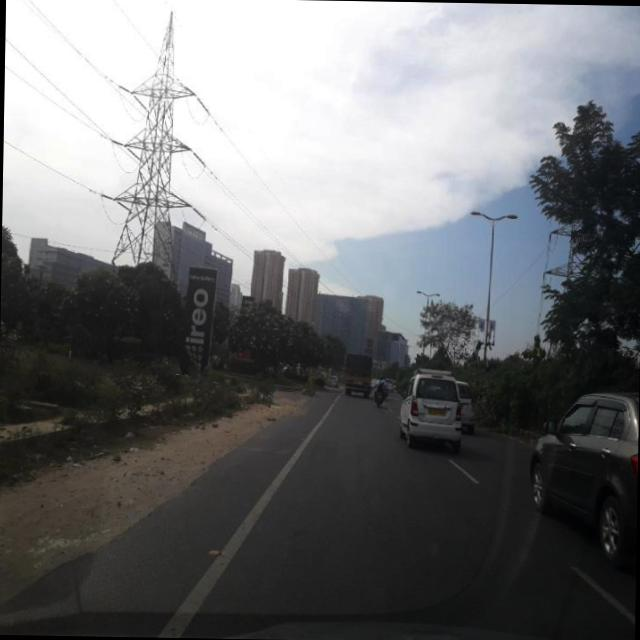crack: (210, 463, 498, 630)
